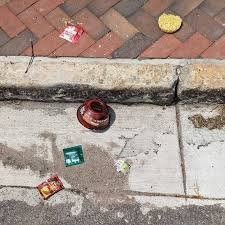food: (152, 8, 187, 35)
plastic: (74, 89, 116, 133), (28, 164, 69, 202), (57, 18, 91, 50), (58, 145, 91, 166)
